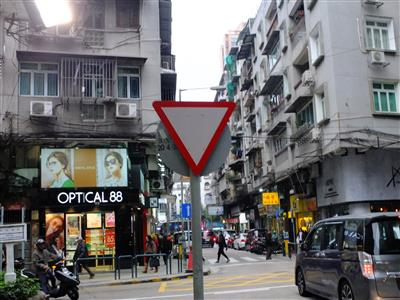oneway: (179, 202, 193, 218)
yield: (150, 97, 236, 177)
